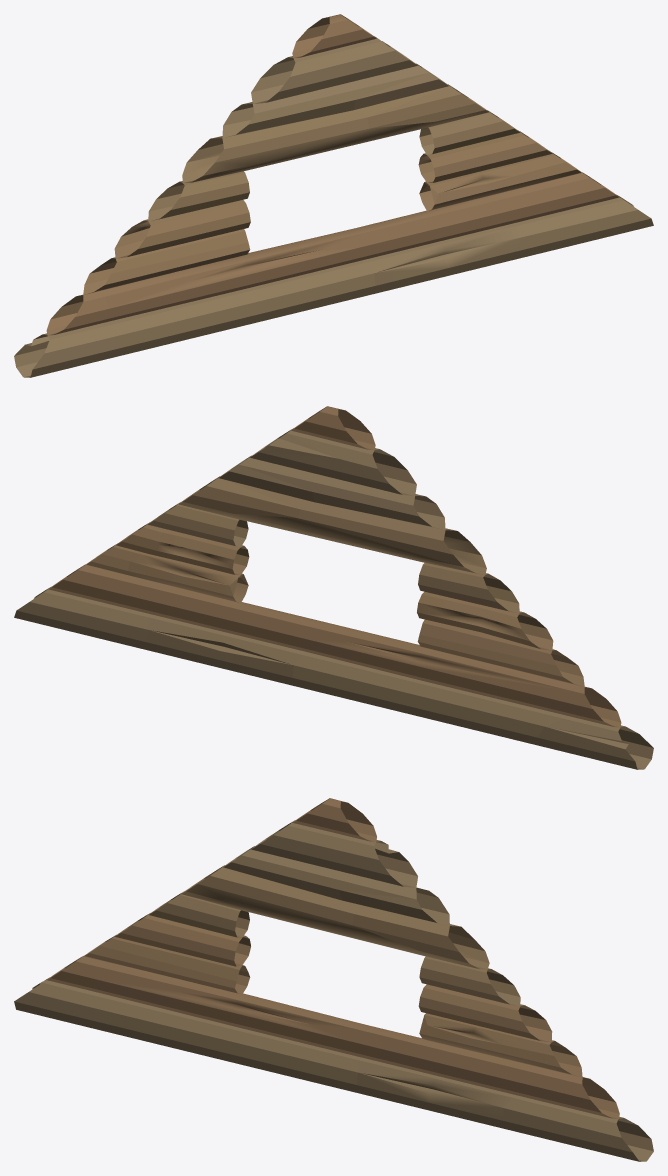
The model's file is rpgpp_ag_roof_end_01_9x4_wall_window_01b.fbx.
3 renders of one model, top to bottom at view 1: azimuth 30°, elevation 25°; view 2: azimuth 150°, elevation 25°; view 3: azimuth 330°, elevation 25°, orthographic.
Parts seen in each view (by area): view 1: rpgpp_ag_roof_end_01_9x4_wall_window_01b; view 2: rpgpp_ag_roof_end_01_9x4_wall_window_01b; view 3: rpgpp_ag_roof_end_01_9x4_wall_window_01b.
Boxes of the visible parts, x1,y1,x2,y2 form: rpgpp_ag_roof_end_01_9x4_wall_window_01b: (14, 14, 653, 377); rpgpp_ag_roof_end_01_9x4_wall_window_01b: (14, 406, 653, 769); rpgpp_ag_roof_end_01_9x4_wall_window_01b: (14, 798, 653, 1161).
Size of the model in its own units: 9 by 3.94 by 0.464.
